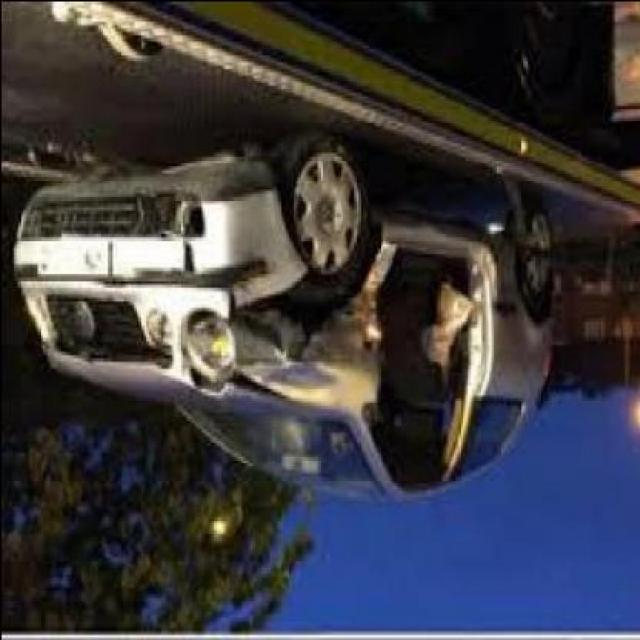damage: (94, 146, 498, 490)
